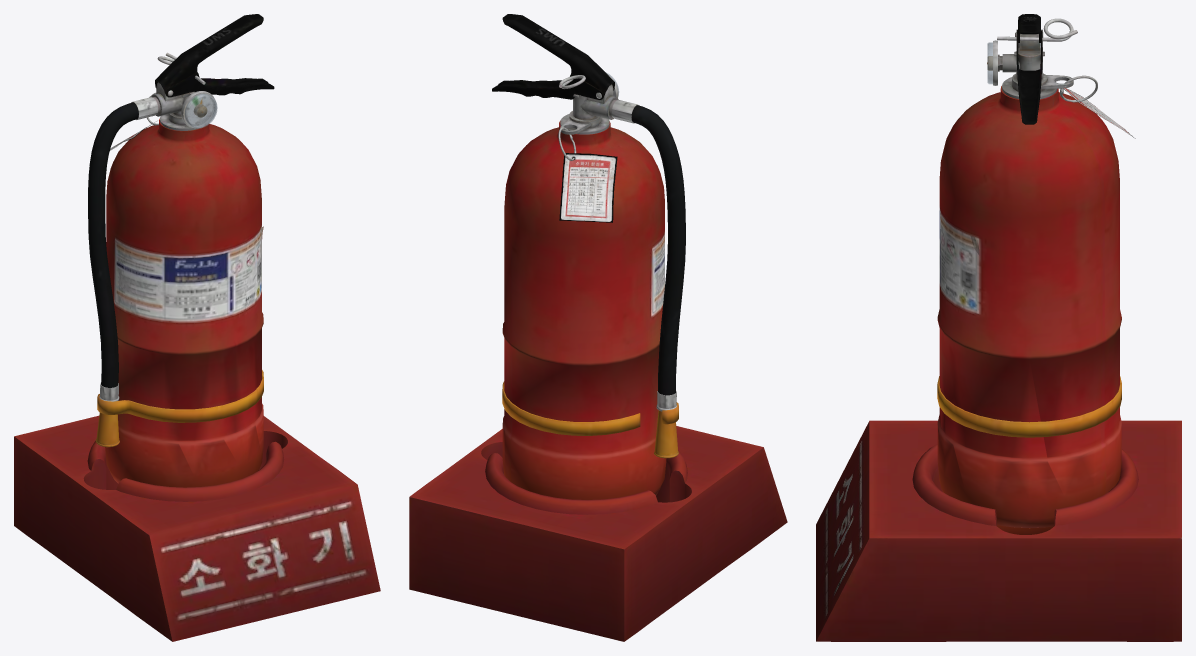
Rendered from korean_fire_extinguisher_01.glb.
3 renders of one model, left to right at view 1: azimuth 30°, elevation 25°; view 2: azimuth 150°, elevation 25°; view 3: azimuth 270°, elevation 25°, orthographic. The views are drawn at different scales.
Parts seen in each view (by area): view 1: korean_fire_extinguisher_01; view 2: korean_fire_extinguisher_01; view 3: korean_fire_extinguisher_01.
Boxes of the visible parts, <box> form: korean_fire_extinguisher_01: <box>14,14,380,641</box>; korean_fire_extinguisher_01: <box>409,14,787,641</box>; korean_fire_extinguisher_01: <box>816,14,1181,641</box>.
Size of the model in its own units: 0.2799 by 0.6593 by 0.3674.
Materials: 3 (3 with a texture image).
